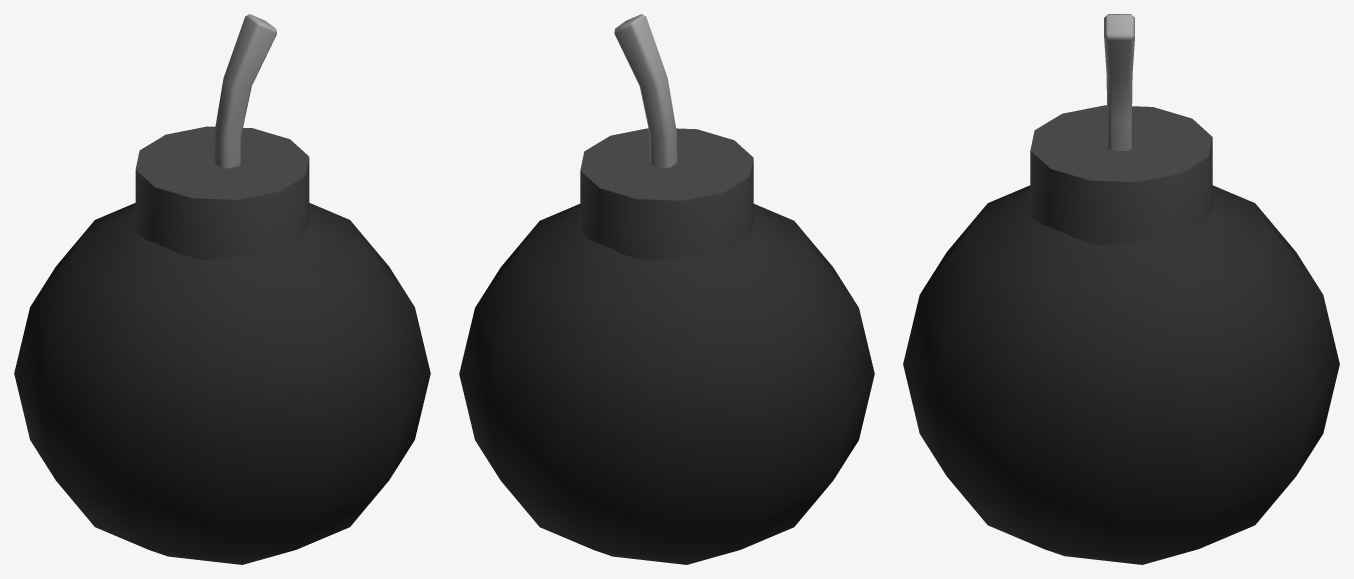
Rendered from bomb_001.fbx.
3 renders of one model, left to right at view 1: azimuth 30°, elevation 25°; view 2: azimuth 150°, elevation 25°; view 3: azimuth 270°, elevation 25°, orthographic. The views are drawn at different scales.
Visible parts, largest first — view 1: bomb_001; view 2: bomb_001; view 3: bomb_001.
Boxes of the visible parts, x1,y1,x2,y2 form: bomb_001: [14, 14, 430, 564]; bomb_001: [459, 14, 874, 564]; bomb_001: [903, 14, 1339, 564].
Size of the model in its own units: 81.24 by 81.24 by 112.
